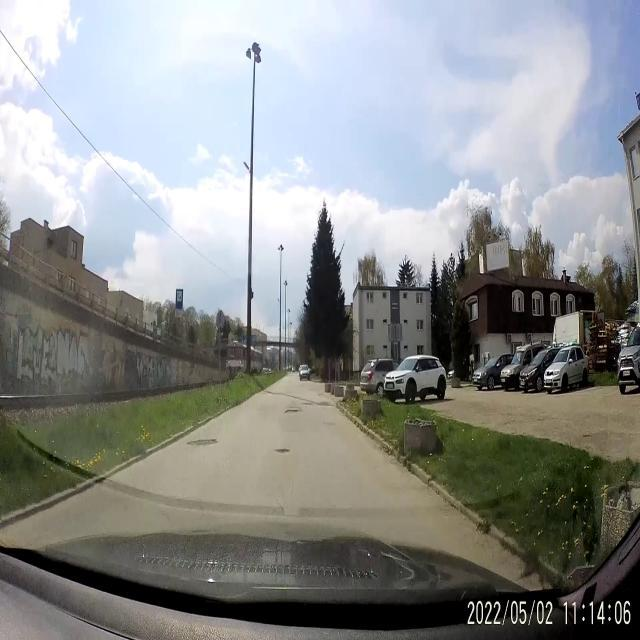Pothole: (188, 428, 225, 457), (284, 402, 302, 418), (276, 446, 293, 457)
